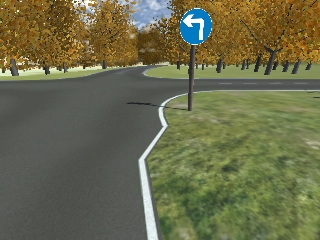left: (179, 9, 212, 43)
